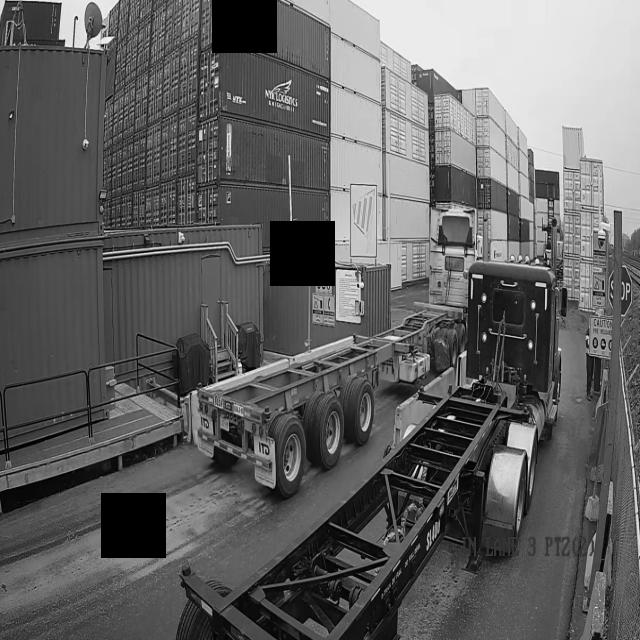truck_without_container: (178, 261, 566, 640), (198, 208, 483, 496)
